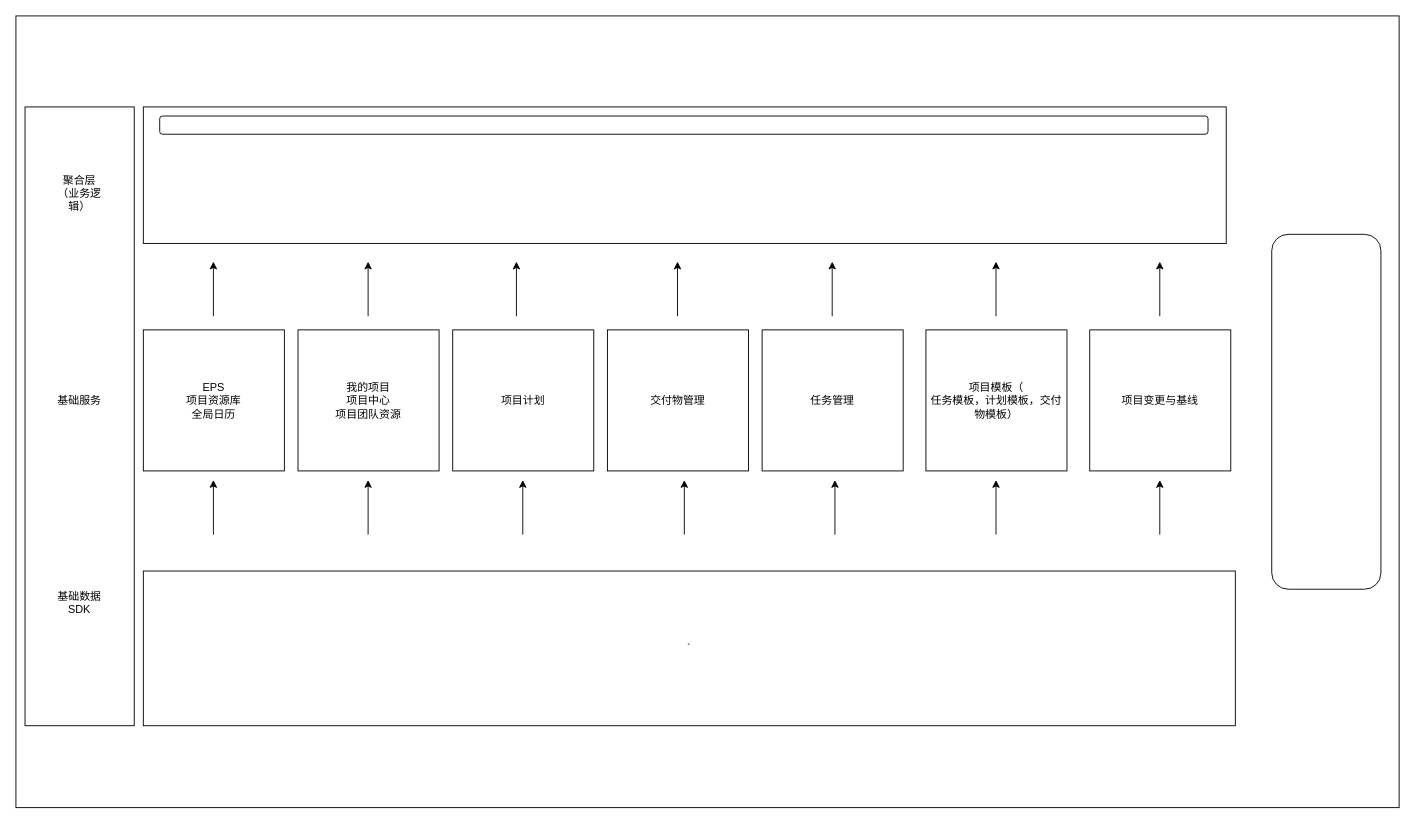
Image size: 1415x824. Some labels were removed from this diagram. Here are the shapes that lost their labels. From the top down, the centre of each, then its label:
pixel 683 124: API
pixel 1326 411: common
